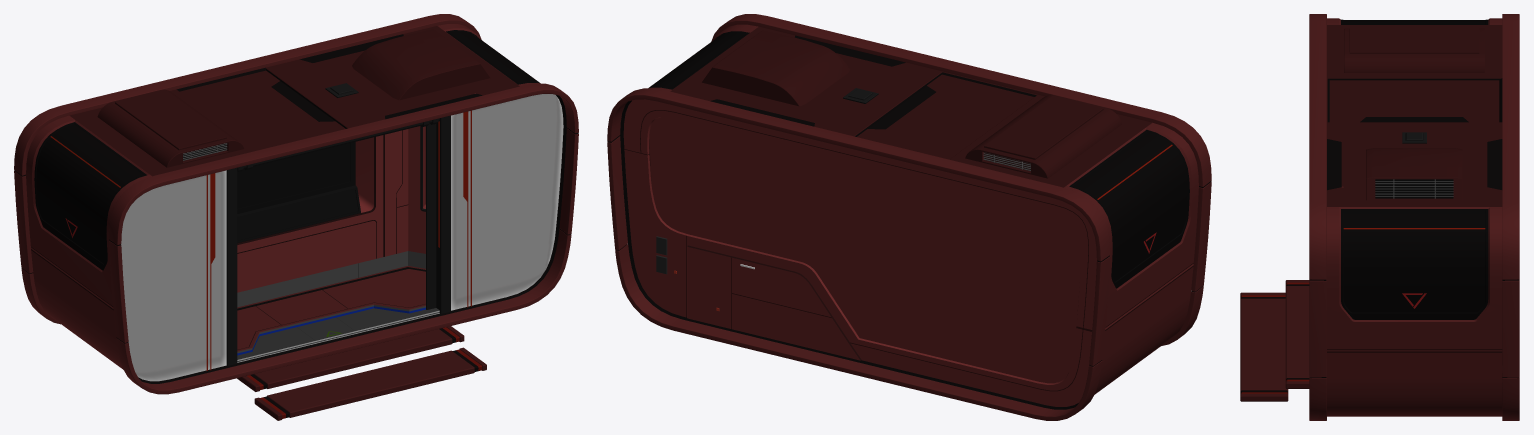
File: W_O_Mobilestore_001_L0.fbx
3 renders of one model, left to right at view 1: azimuth 30°, elevation 25°; view 2: azimuth 150°, elevation 25°; view 3: azimuth 270°, elevation 25°, orthographic. The views are drawn at different scales.
Visible parts, largest first — view 1: W_O_Mobilestore_001_L0; view 2: W_O_Mobilestore_001_L0; view 3: W_O_Mobilestore_001_L0.
Part boxes in pixels (x1,y1,x2,y2): W_O_Mobilestore_001_L0: [14, 14, 578, 420]; W_O_Mobilestore_001_L0: [607, 14, 1211, 420]; W_O_Mobilestore_001_L0: [1240, 14, 1519, 420].
Size of the model in its own units: 6.82 by 3.51 by 3.52.
